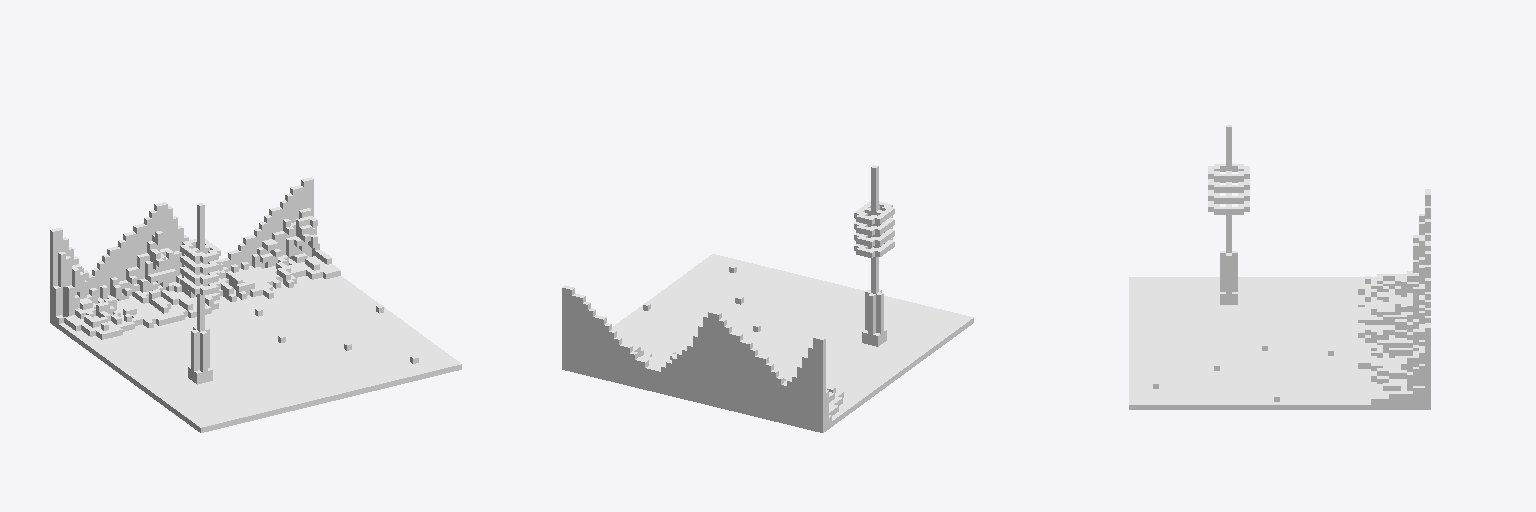
Rendered from Entaine.obj.
3 renders of one model, left to right at view 1: azimuth 30°, elevation 25°; view 2: azimuth 150°, elevation 25°; view 3: azimuth 270°, elevation 25°, orthographic.
Visible parts, largest first — view 1: object 1; view 2: object 1; view 3: object 1.
Part boxes in pixels (x1,y1,x2,y2): object 1: (50,177,461,432); object 1: (562,165,973,432); object 1: (1129,125,1430,409).
Size of the model in its own units: 5 by 3.3 by 5.